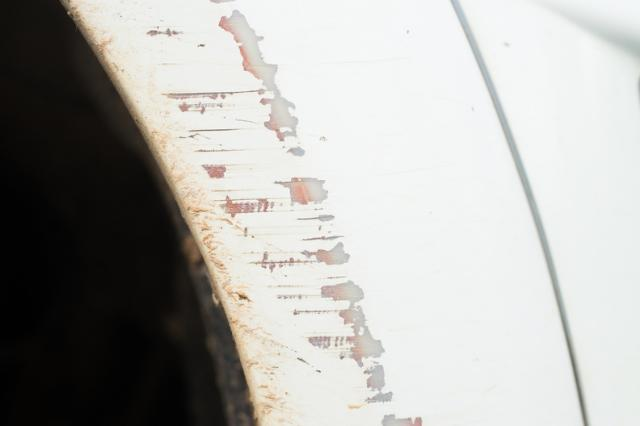Fender: (91, 0, 429, 426)
